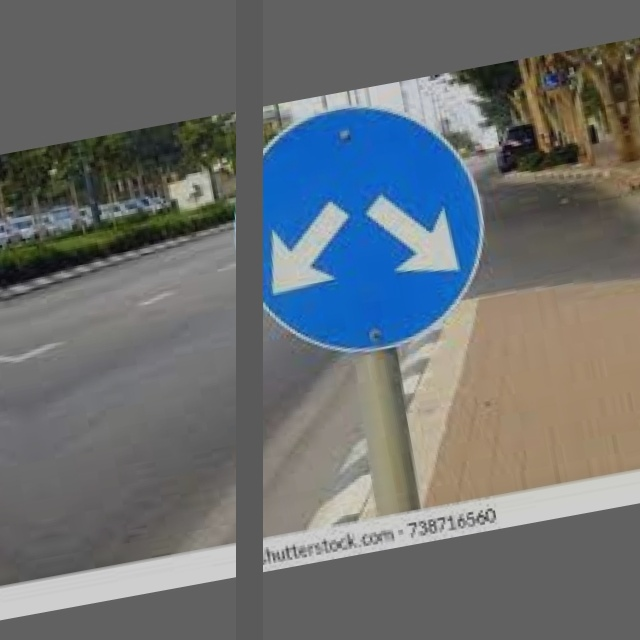Pass_Either_Side: (213, 84, 507, 372)
